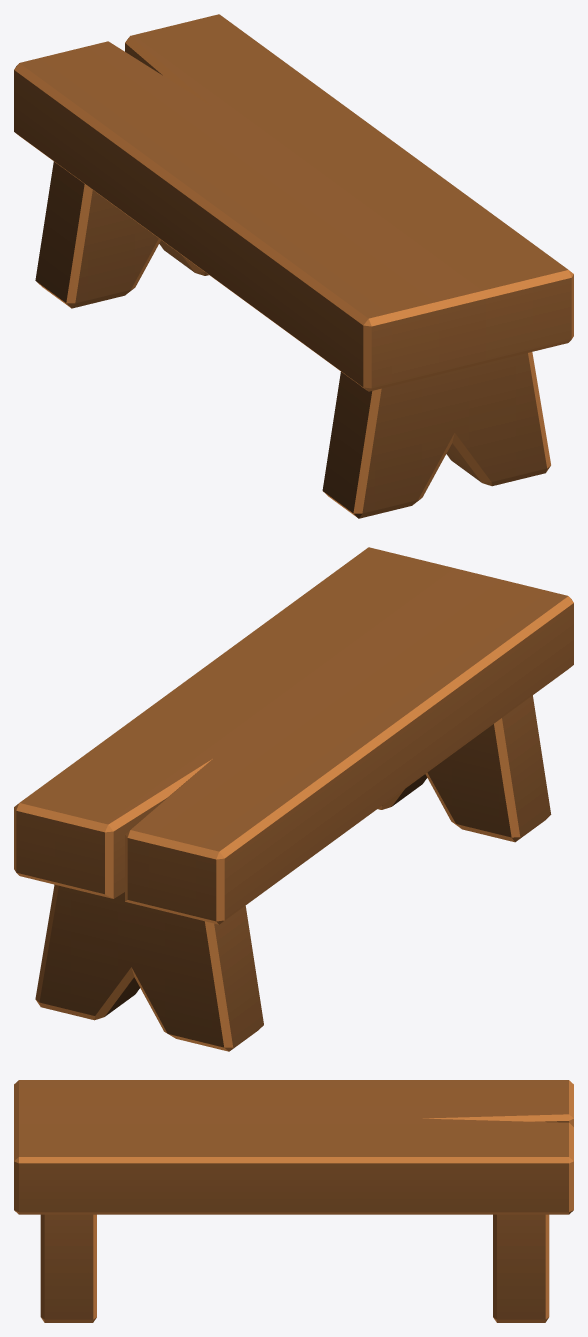
Rendered from Bench.fbx.
3 views of the same model, one above another, from view 1: azimuth 30°, elevation 25°; view 2: azimuth 150°, elevation 25°; view 3: azimuth 270°, elevation 25° (orthographic). The views are drawn at different scales.
Parts seen in each view (by area): view 1: Bench; view 2: Bench; view 3: Bench.
Boxes of the visible parts, bbox=[...] form: Bench: bbox=[14, 14, 573, 518]; Bench: bbox=[14, 547, 573, 1051]; Bench: bbox=[14, 1080, 573, 1322].
Size of the model in its own units: 148 by 143 by 432.
1 material, 1 textured.
